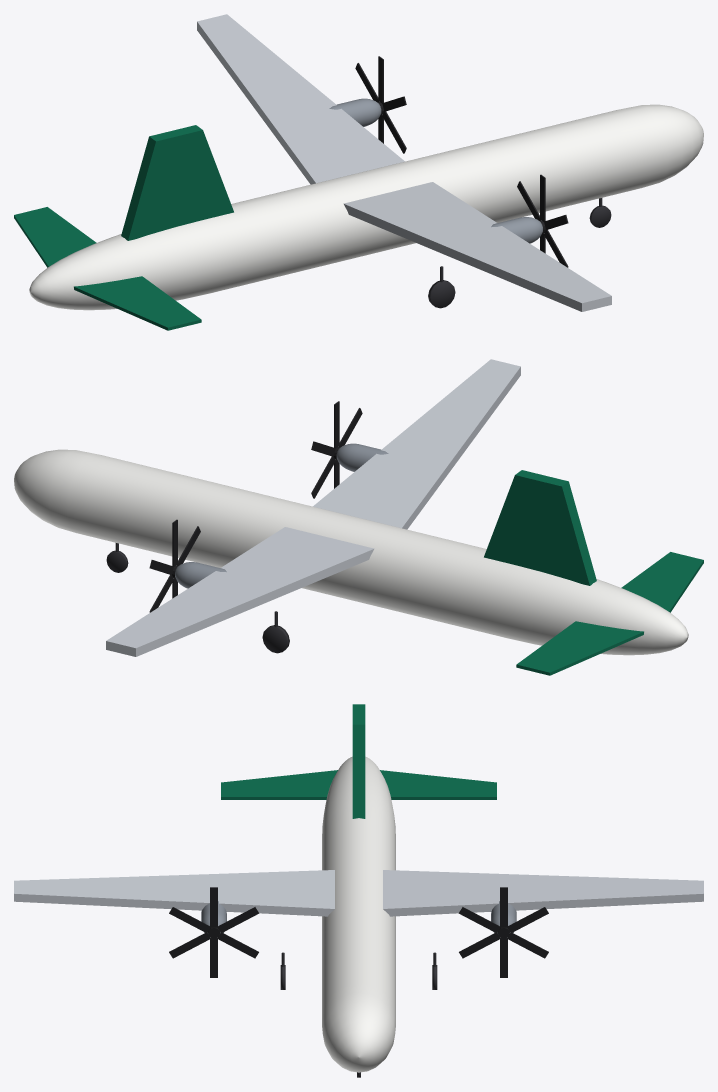
3 views of the same model, one above another, from view 1: azimuth 30°, elevation 25°; view 2: azimuth 150°, elevation 25°; view 3: azimuth 270°, elevation 25° (orthographic). The views are drawn at different scales.
Parts seen in each view (by area): view 1: fuselage, wings, tail, propellers, engines, gear; view 2: fuselage, wings, tail, propellers, engines, gear; view 3: wings, fuselage, tail, propellers, engines.
Boxes of the visible parts, x1,y1,x2,y2 form: fuselage: [29, 104, 703, 310]; wings: [197, 14, 611, 311]; tail: [14, 125, 233, 330]; propellers: [355, 56, 568, 267]; engines: [329, 98, 542, 243]; gear: [428, 198, 611, 308]; fuselage: [14, 449, 688, 655]; wings: [106, 359, 520, 656]; tail: [484, 470, 703, 675]; propellers: [149, 401, 362, 612]; engines: [175, 443, 388, 588]; gear: [106, 543, 289, 653]; wings: [14, 870, 703, 916]; fuselage: [322, 756, 395, 1072]; tail: [221, 704, 496, 818]; propellers: [169, 887, 548, 977]; engines: [201, 901, 516, 933].
Size of the model in its own units: 27.2 by 7.64 by 27.05.
